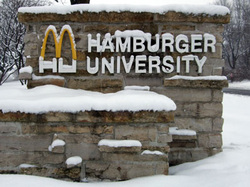mcdonalds: (39, 23, 75, 58)
